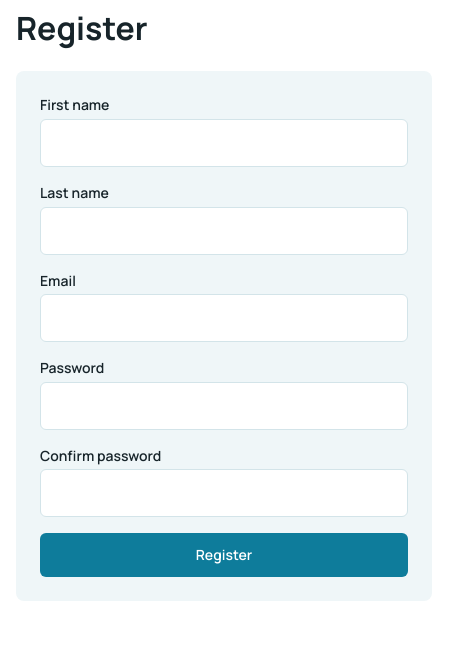
it: Register › shows a generic fallback message on a 400 with no Email-specific error
Type "John" into the field labelled "First name" at [224, 143], box top-left (40, 119), bottom-right (408, 167)
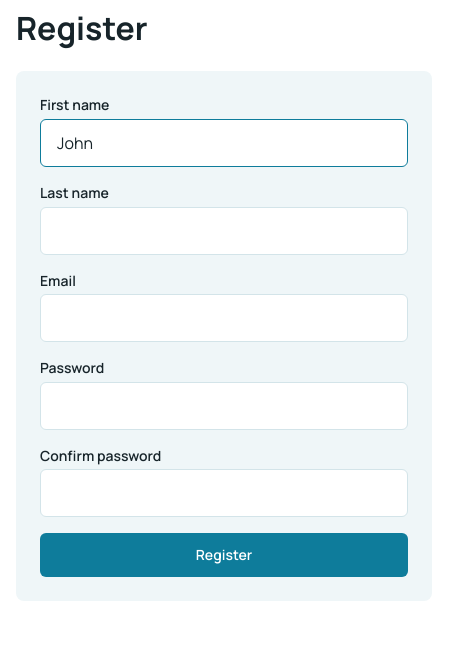
Type "Smith" into the field labelled "Last name" at [224, 231], box top-left (40, 207), bottom-right (408, 255)
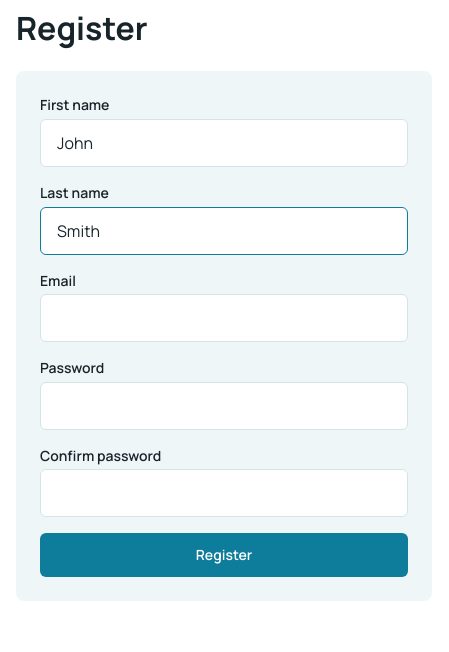
Type "john@example.com" into the field labelled "Email" at [224, 318], box top-left (40, 294), bottom-right (408, 342)
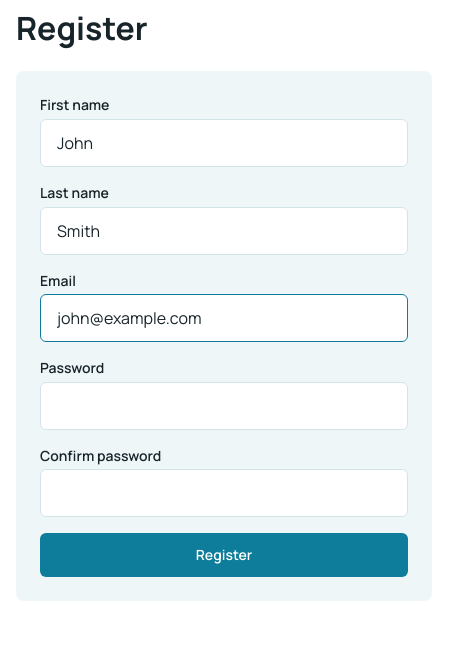
Type "hunter222" into the password field labelled "Password" at [224, 406], box top-left (40, 382), bottom-right (408, 430)
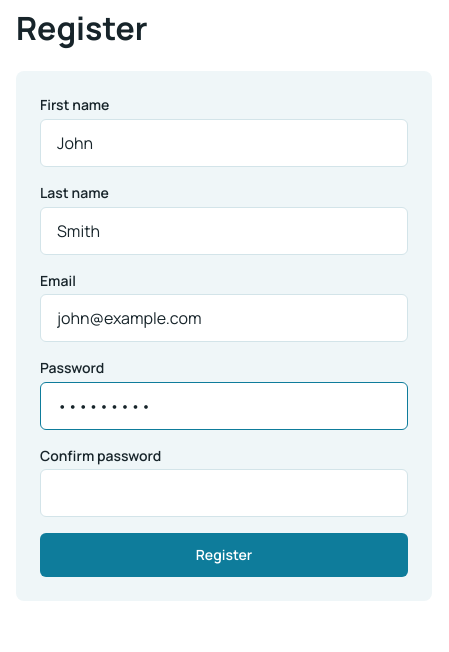
Type "hunter222" into the password field labelled "Confirm password" at [224, 493], box top-left (40, 469), bottom-right (408, 517)
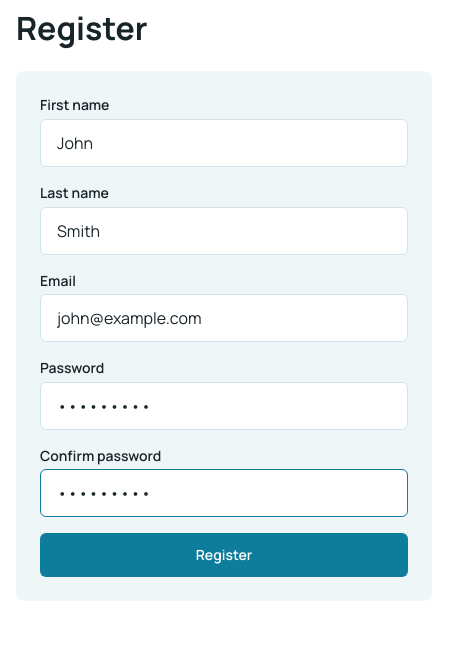
Click the button "Register" at [224, 555], box top-left (40, 533), bottom-right (408, 577)
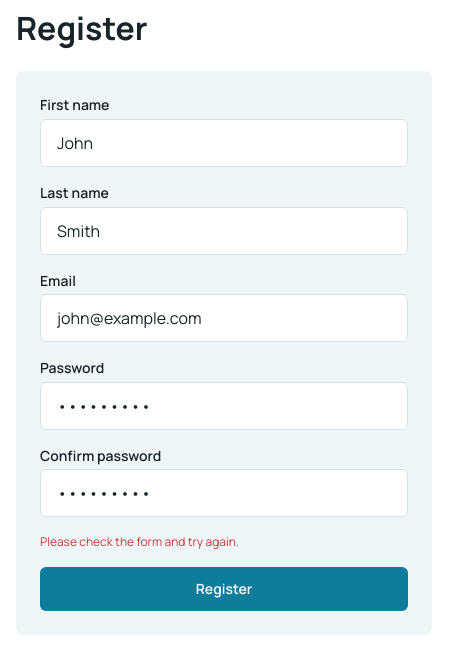
Expected: the text "Please check the form and try again." is shown, top-left (40, 533), bottom-right (239, 550)
